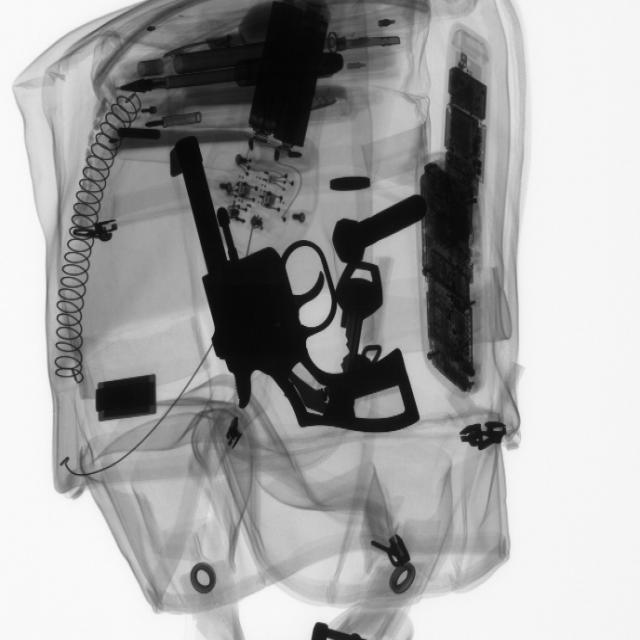GUN: (160, 140, 424, 449)
